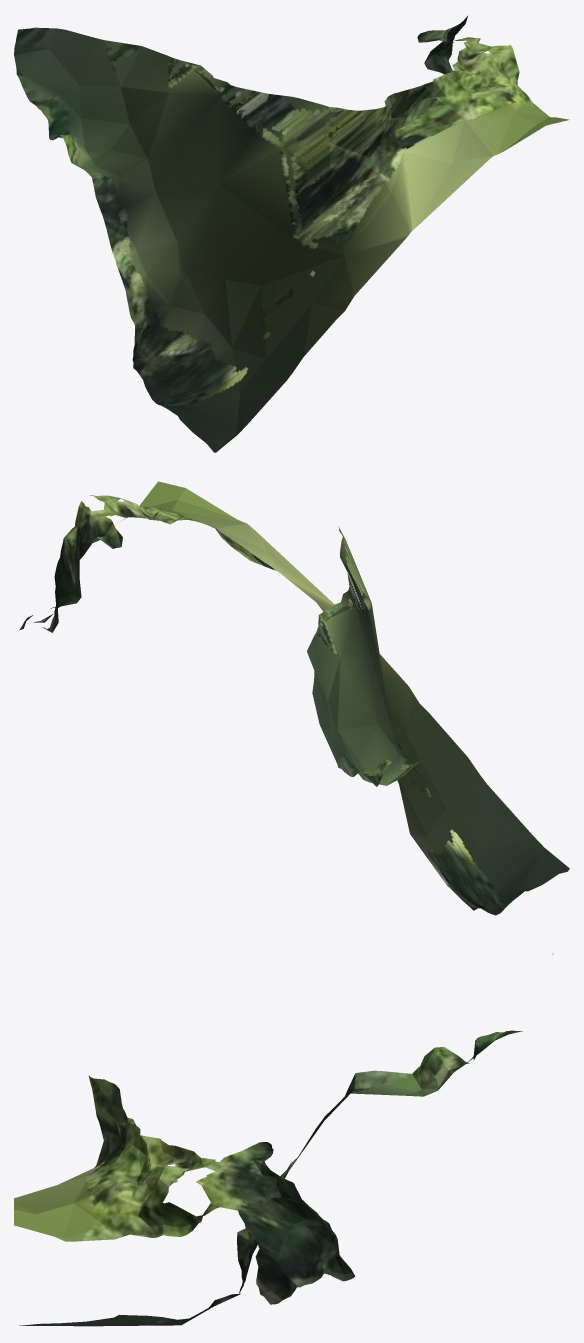
The picture shows the model from 3 angles, top to bottom: view 1: azimuth 30°, elevation 25°; view 2: azimuth 150°, elevation 25°; view 3: azimuth 270°, elevation 25°; orthographic projection. The views are drawn at different scales.
Size of the model in its own units: 26.11 by 19.7 by 25.8.
Materials: 2 (2 with a texture image).
